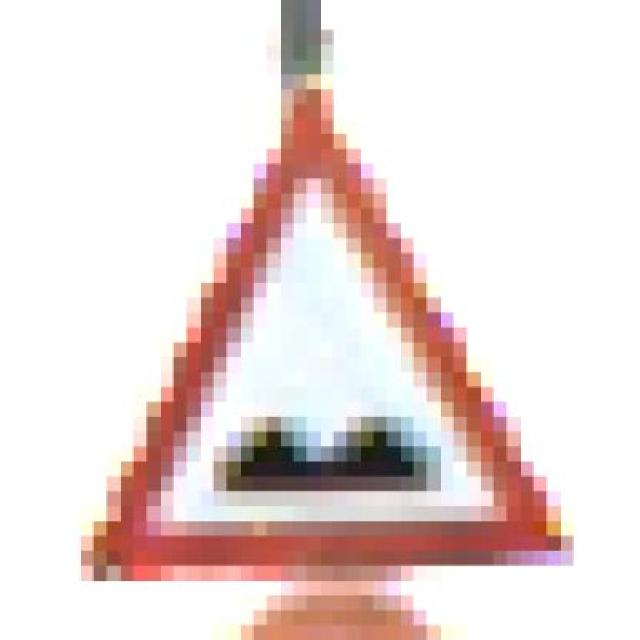Uneven Road: (80, 89, 574, 580)
